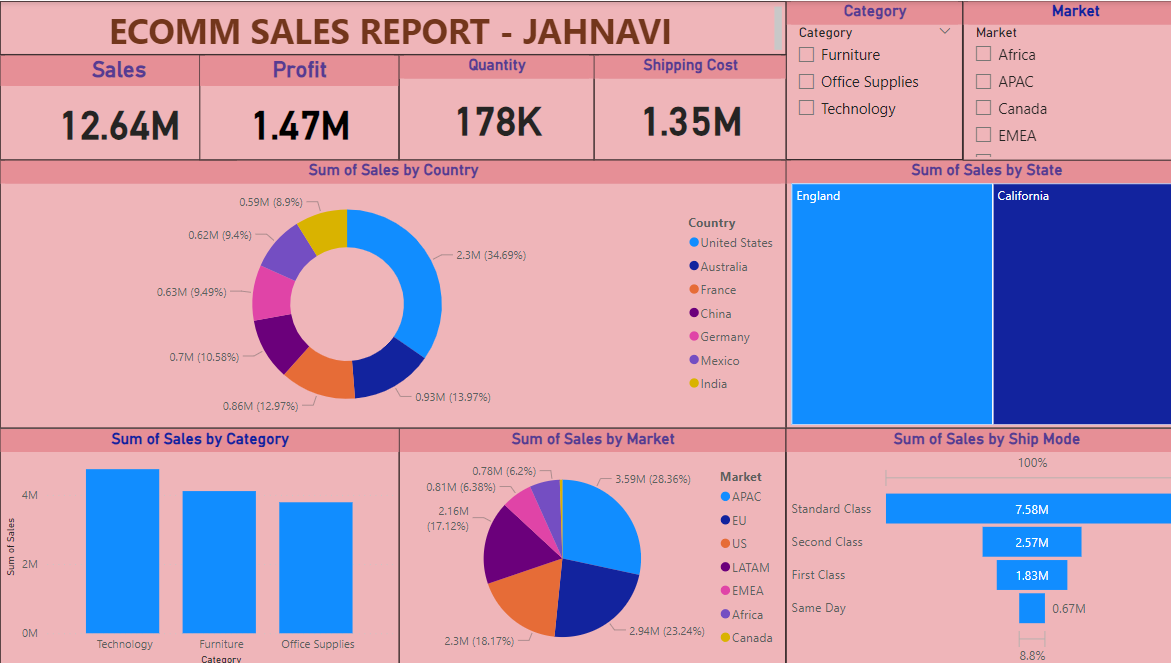

What the dashboard file says about the page in this screenshot:
{"tool":"powerbi","page":{"name":"Page 1","canvas":[1280,720],"ordinal":0},"visuals":[{"type":"slicer","title":"Category","fields":{"Values":["Orders.Category"]},"box":[847.8,0,190.9,171.5],"z":0},{"type":"pieChart","fields":{"Category":["Orders.Market"],"Y":["Orders.Sales"]},"box":[430.4,461.1,417.4,258.9],"z":1000},{"type":"funnel","fields":{"Category":["Orders.Ship Mode"],"Y":["Orders.Sales"]},"box":[847.8,461.1,432,258.9],"z":2000},{"type":"donutChart","fields":{"Category":["Orders.Country"],"Y":["Orders.Sales"]},"box":[0,171.5,847.8,289.6],"z":3000},{"type":"card","title":"Sales","fields":{"Values":["Orders.Sales"]},"box":[0,58.6,255.2,113.4],"z":4000},{"type":"card","title":"Profit","fields":{"Values":["Orders.Profit"]},"box":[215.2,58.2,215.2,113.3],"z":5000},{"type":"card","title":"Quantity","fields":{"Values":["Orders.Quantity"]},"box":[430.4,58.2,210.3,113.3],"z":6000},{"type":"treemap","fields":{"Group":["Orders.State"],"Values":["Orders.Sales"]},"box":[847.8,171.5,432,289.6],"z":7000},{"type":"card","title":"Shipping Cost","fields":{"Values":["Orders.Shipping Cost"]},"box":[640.7,58.2,207.1,113.3],"z":8000},{"type":"textbox","box":[0,0,847.8,58.2],"z":9000},{"type":"columnChart","fields":{"Category":["Orders.Category"],"Y":["Orders.Sales"]},"box":[0,461.1,430.4,258.9],"z":10000},{"type":"slicer","title":"Market","fields":{"Values":["Orders.Market"]},"box":[1038,0,242,172],"z":11000}]}

Visuals, with their boxes in screenshot pixels (x1, y1, x2, y2), scaled from the page's 1280x720 canvas onto the 1171x663 screenshot:
"Category" slicer: crop(776, 0, 950, 158)
pieChart - Orders.Market x Orders.Sales: crop(394, 425, 776, 662)
funnel - Orders.Ship Mode x Orders.Sales: crop(776, 425, 1170, 662)
donutChart - Orders.Country x Orders.Sales: crop(0, 158, 776, 425)
"Sales" card: crop(0, 54, 233, 158)
"Profit" card: crop(197, 54, 394, 158)
"Quantity" card: crop(394, 54, 586, 158)
treemap - Orders.State x Orders.Sales: crop(776, 158, 1170, 425)
"Shipping Cost" card: crop(586, 54, 776, 158)
textbox: crop(0, 0, 776, 54)
columnChart - Orders.Category x Orders.Sales: crop(0, 425, 394, 662)
"Market" slicer: crop(950, 0, 1170, 158)
